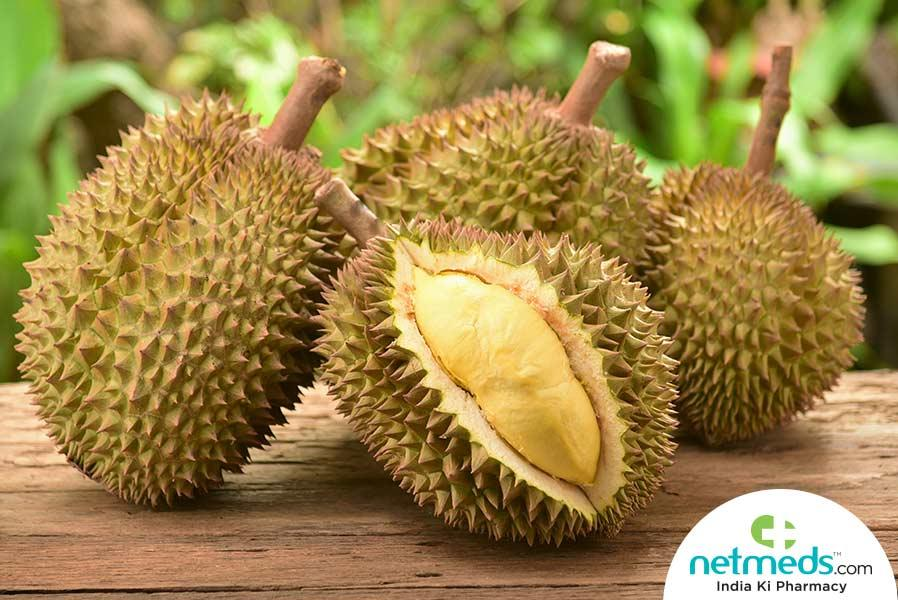sau_rieng: (15, 90, 337, 509)
